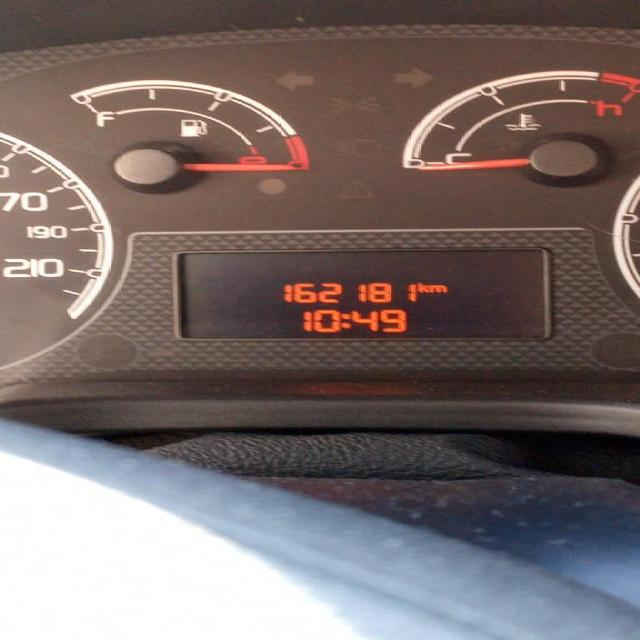odometer: (170, 245, 553, 342)
